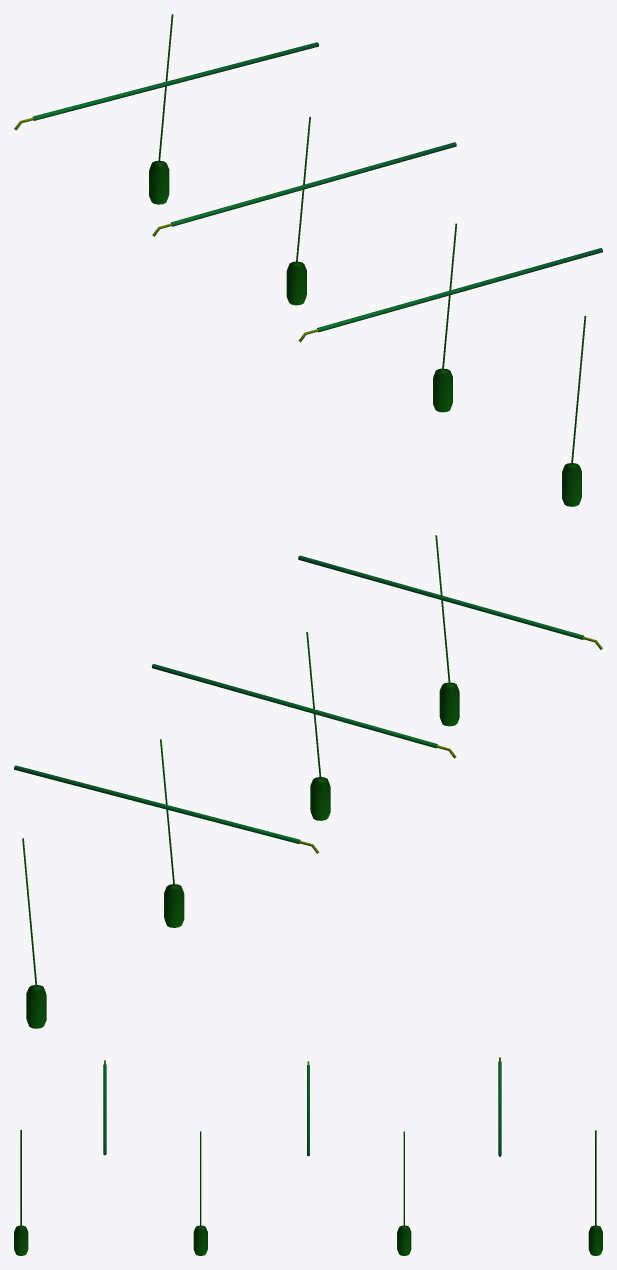
The model's file is alongside_gear.glb.
3 renders of one model, top to bottom at view 1: azimuth 30°, elevation 25°; view 2: azimuth 150°, elevation 25°; view 3: azimuth 270°, elevation 25°, orthographic. The views are drawn at different scales.
Parts seen in each view (by area): view 1: alongside_gear; view 2: alongside_gear; view 3: alongside_gear.
Boxes of the visible parts, x1=… form: alongside_gear: x1=14, y1=14, x2=602, y2=506; alongside_gear: x1=14, y1=535, x2=602, y2=1028; alongside_gear: x1=14, y1=1057, x2=602, y2=1255.
Size of what is drawn, in the model's own units: 4.08 by 2.45 by 9.84.
